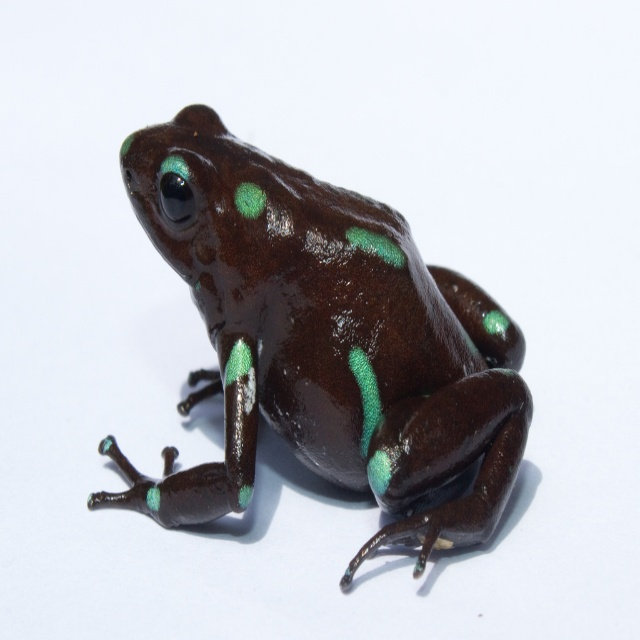Frog: (89, 103, 534, 596)
